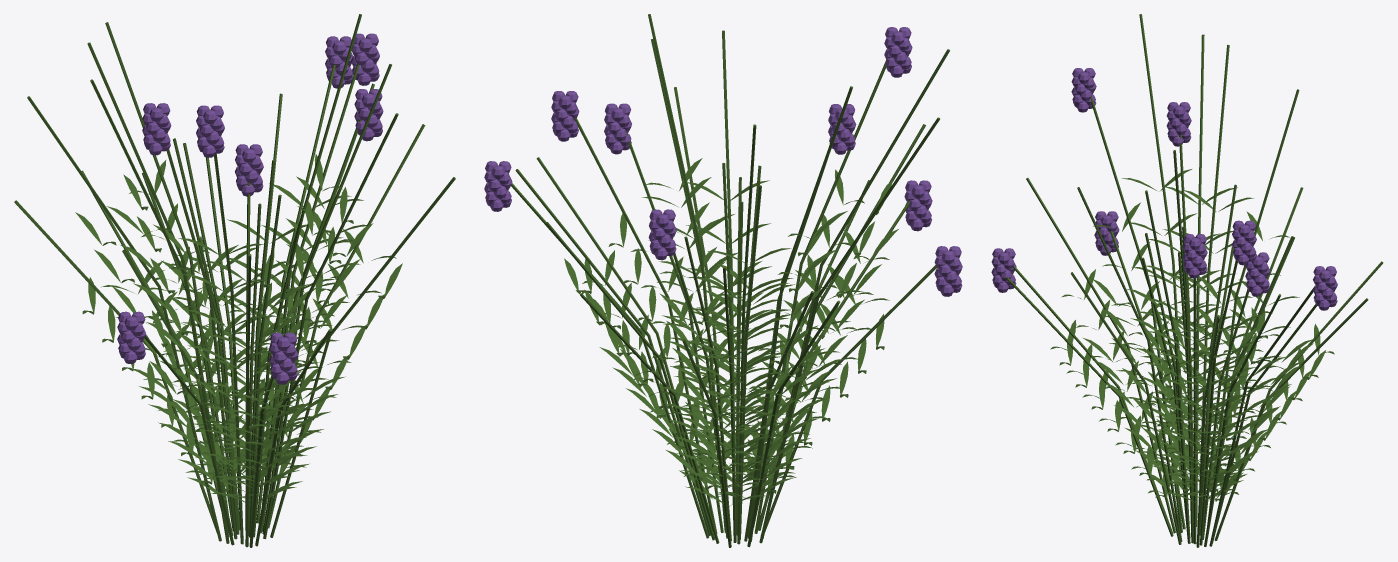
Rendered from romero_jardin.glb.
The picture shows the model from 3 angles, left to right: view 1: azimuth 30°, elevation 25°; view 2: azimuth 150°, elevation 25°; view 3: azimuth 270°, elevation 25°; orthographic projection. The views are drawn at different scales.
Visible parts, largest first — view 1: romero_jardin; view 2: romero_jardin; view 3: romero_jardin.
Boxes of the visible parts, x1,y1,x2,y2 form: romero_jardin: (14, 14, 455, 547); romero_jardin: (484, 14, 962, 547); romero_jardin: (991, 14, 1383, 547).
Bounding box in the file's own units: 0.5666 × 0.6978 × 0.5553.
